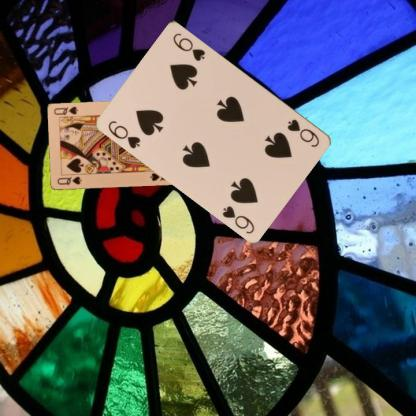6s: (285, 116, 321, 149), (106, 118, 142, 150)
Qs: (54, 174, 83, 186)
